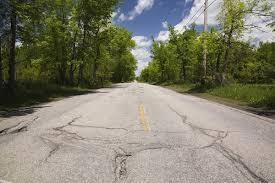Pothole: (204, 135, 275, 183), (106, 148, 140, 183), (0, 114, 44, 137)
